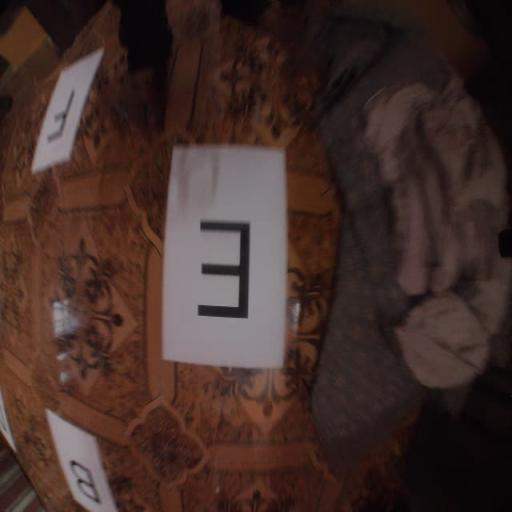B: (70, 460, 100, 503)
E: (198, 223, 250, 319)
F: (48, 90, 74, 140)
